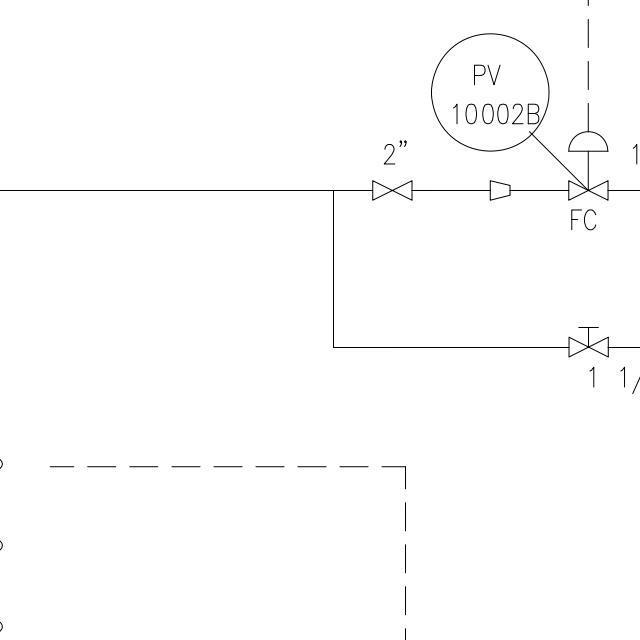FC: (565, 126, 611, 204)
GV: (365, 175, 418, 202)
HV: (565, 320, 612, 360)
SP: (486, 176, 514, 204)
